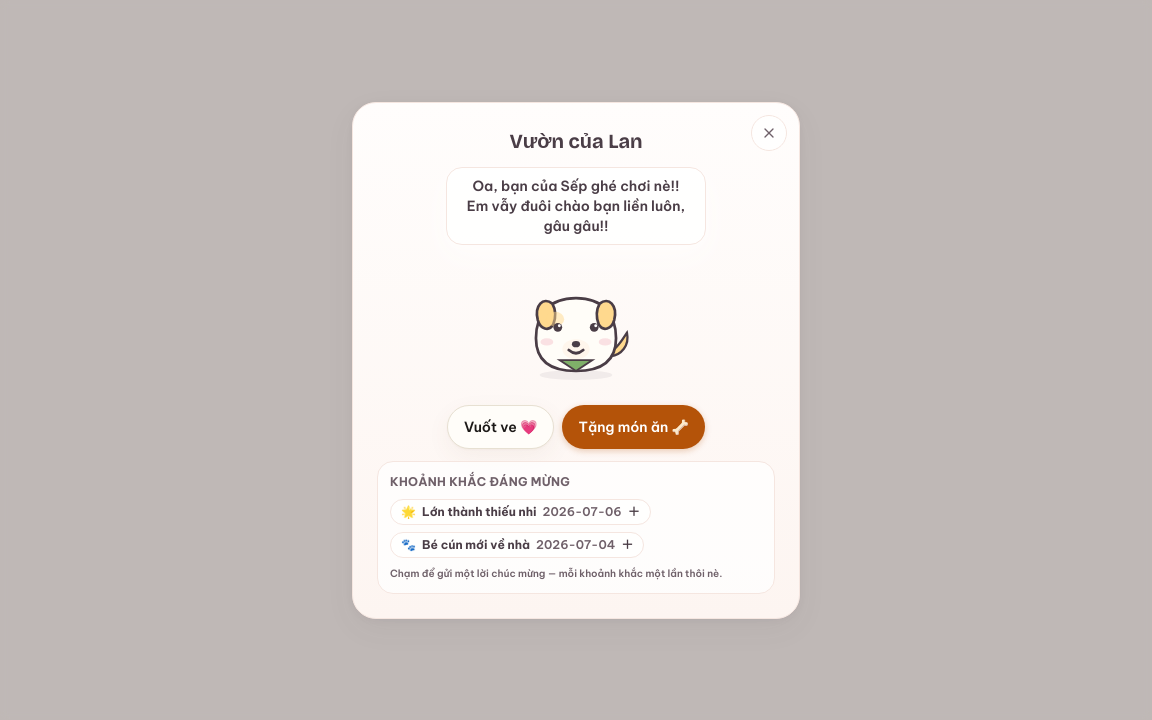
Scenario: GardenVisitOverlay › settles into the sent state on gift-cap-reached, no error toast
Click the button "Tặng món ăn 🦴".
click(634, 426)  # box [562,404,705,448]
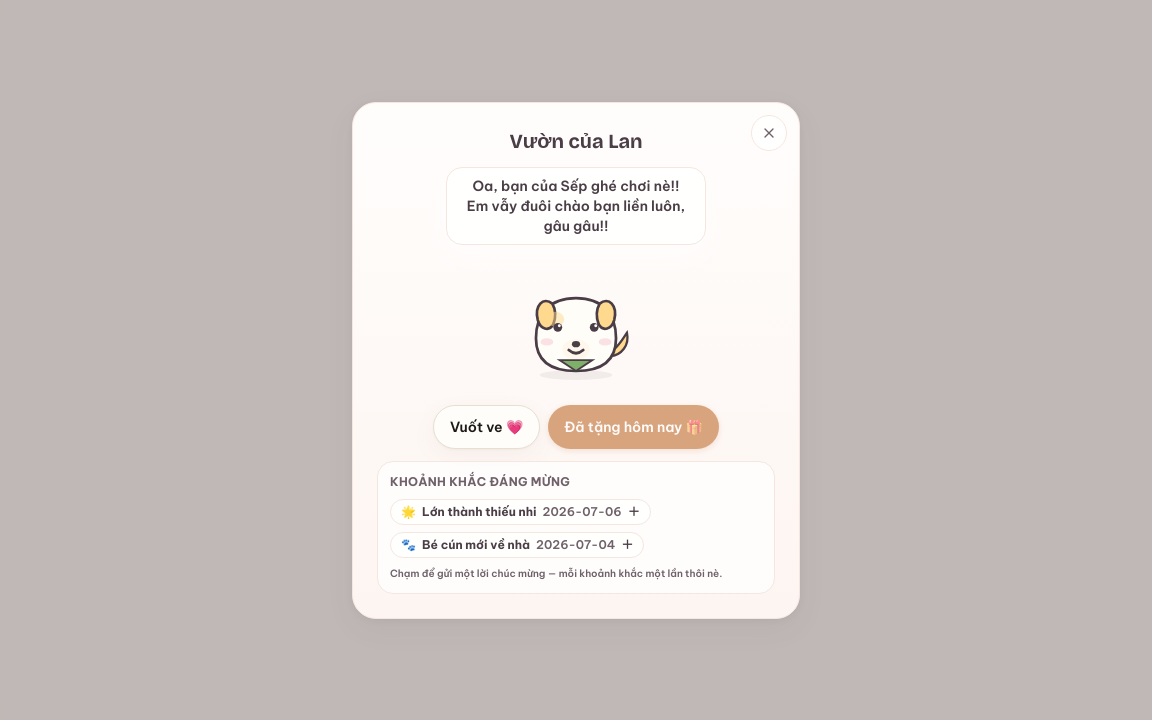
expect the button "Đã tặng hôm nay 🎁" is disabled: met, box [548,404,719,448]
